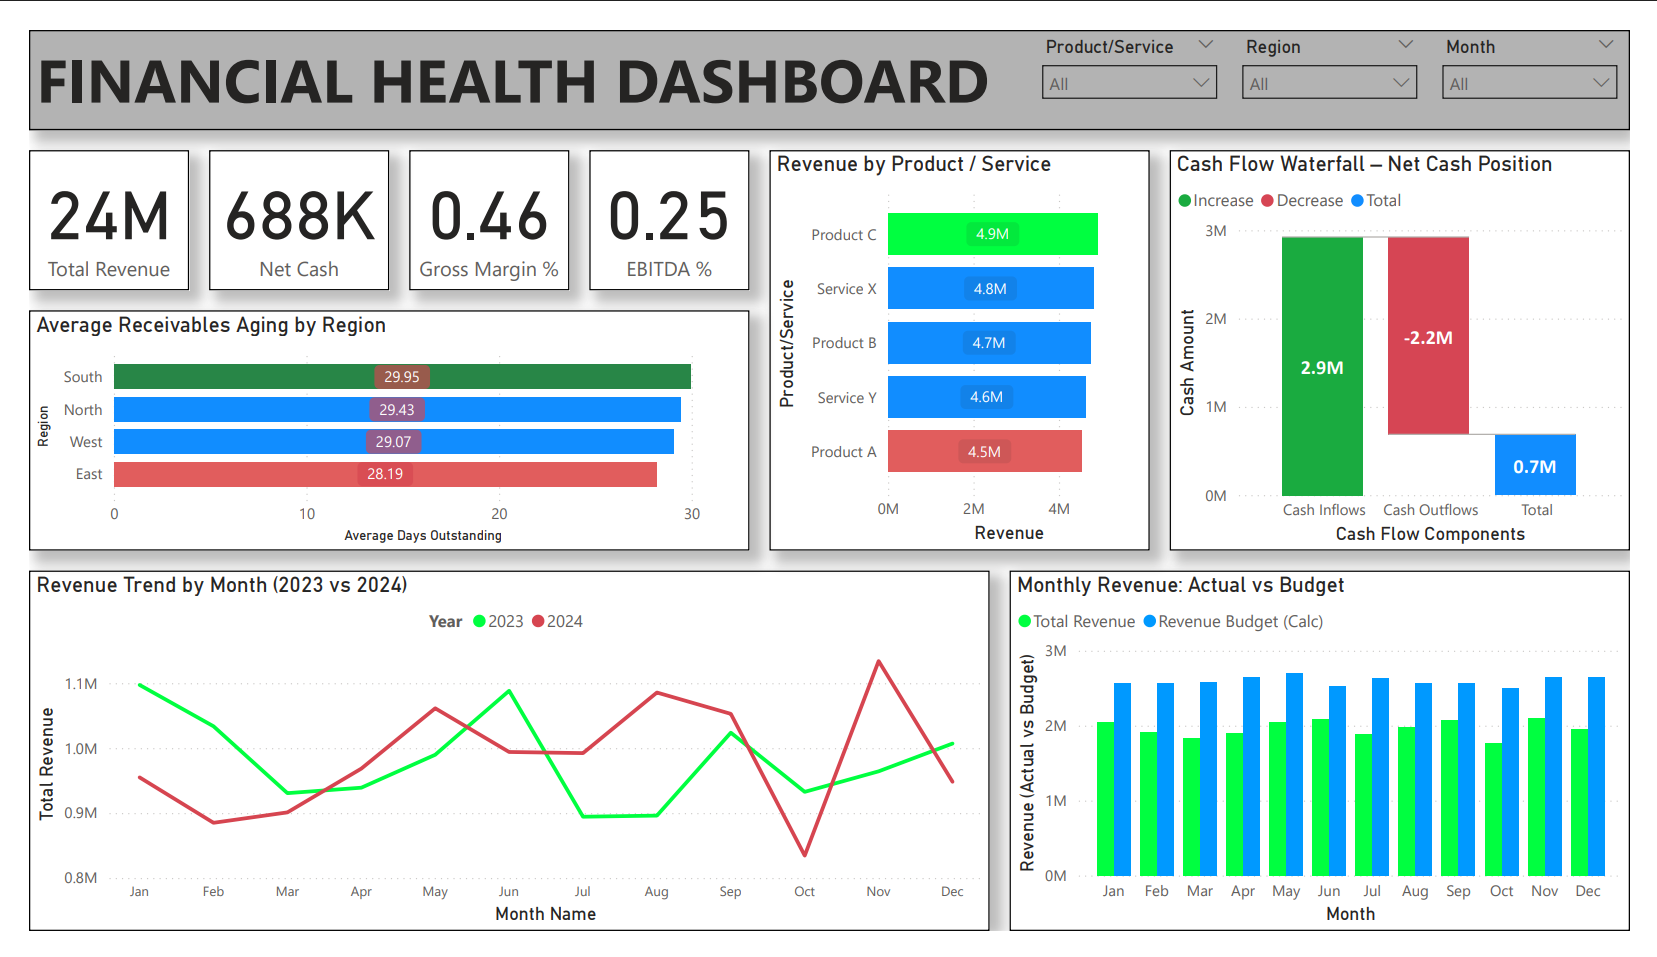

The dashboard page shown, as its layout file describes it:
{"tool":"powerbi","page":{"name":"Page 1","canvas":[1280,720],"ordinal":0},"visuals":[{"type":"textbox","box":[0,0,1280,80],"z":0},{"type":"card","fields":{"Values":["Table1.Total Revenue"]},"box":[0,96,128,112],"z":1000},{"type":"card","fields":{"Values":["Table1.Gross Margin %"]},"box":[304,96,128,112],"z":2000},{"type":"card","fields":{"Values":["Table1.EBITDA %"]},"box":[448,96,128,112],"z":3000},{"type":"card","fields":{"Values":["Table1.Net Cash"]},"box":[144,96,144,112],"z":4000},{"type":"slicer","fields":{"Values":["Table1.Month"]},"box":[1120,0,160,80],"z":5000},{"type":"slicer","fields":{"Values":["Table1.Region"]},"box":[960,0,160,80],"z":6000},{"type":"slicer","fields":{"Values":["Table1.Product/Service"]},"box":[800,0,160,80],"z":7000},{"type":"lineChart","title":"Revenue & Profit Trend by Month","fields":{"Category":["Table1.Month Name"],"Y":["Table1.Profit"],"Y2":["Table1.Total Revenue"]},"box":[0,432,768,288],"z":8000},{"type":"waterfallChart","title":"Cash Flow Waterfall – Net Cash Position","fields":{"Category":["Cash Flow Waterfall.Type"],"Y":["Sum(Cash Flow Waterfall.Amount)"]},"box":[912,96,368,320],"z":9000},{"type":"clusteredColumnChart","title":"Monthly Revenue: Actual vs Budget","fields":{"Category":["Table1.Month Name"],"Y":["Table1.Total Revenue","Table1.Revenue Budget (Calc)"]},"box":[784,432,496,288],"z":10000},{"type":"barChart","title":"Revenue by Product / Service","fields":{"Category":["Table1.Product/Service"],"Y":["Table1.Total Revenue"]},"box":[592,96,304,320],"z":11000},{"type":"barChart","title":"Average Receivables Aging by Region","fields":{"Category":["Table1.Region"],"Y":["Avg(Table1.Receivables Aging (Days))"]},"box":[0,224,576,192],"z":12000}]}

Visuals, with their boxes in screenshot pixels (x1, y1, x2, y2), scaled from the page's 1280x720 canvas onto the 1657x957 screenshot:
textbox: {"x1": 0, "y1": 0, "x2": 1656, "y2": 106}
card - Table1.Total Revenue: {"x1": 0, "y1": 128, "x2": 166, "y2": 276}
card - Table1.Gross Margin %: {"x1": 394, "y1": 128, "x2": 559, "y2": 276}
card - Table1.EBITDA %: {"x1": 580, "y1": 128, "x2": 746, "y2": 276}
card - Table1.Net Cash: {"x1": 186, "y1": 128, "x2": 373, "y2": 276}
slicer - Table1.Month: {"x1": 1450, "y1": 0, "x2": 1656, "y2": 106}
slicer - Table1.Region: {"x1": 1243, "y1": 0, "x2": 1450, "y2": 106}
slicer - Table1.Product/Service: {"x1": 1036, "y1": 0, "x2": 1243, "y2": 106}
"Revenue & Profit Trend by Month" lineChart: {"x1": 0, "y1": 574, "x2": 994, "y2": 956}
"Cash Flow Waterfall – Net Cash Position" waterfallChart: {"x1": 1181, "y1": 128, "x2": 1656, "y2": 553}
"Monthly Revenue: Actual vs Budget" clusteredColumnChart: {"x1": 1015, "y1": 574, "x2": 1656, "y2": 956}
"Revenue by Product / Service" barChart: {"x1": 766, "y1": 128, "x2": 1160, "y2": 553}
"Average Receivables Aging by Region" barChart: {"x1": 0, "y1": 298, "x2": 746, "y2": 553}
